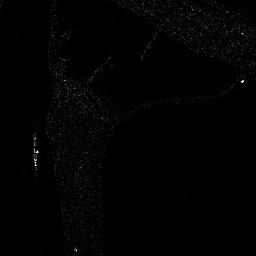ship: (29, 132, 41, 170)
